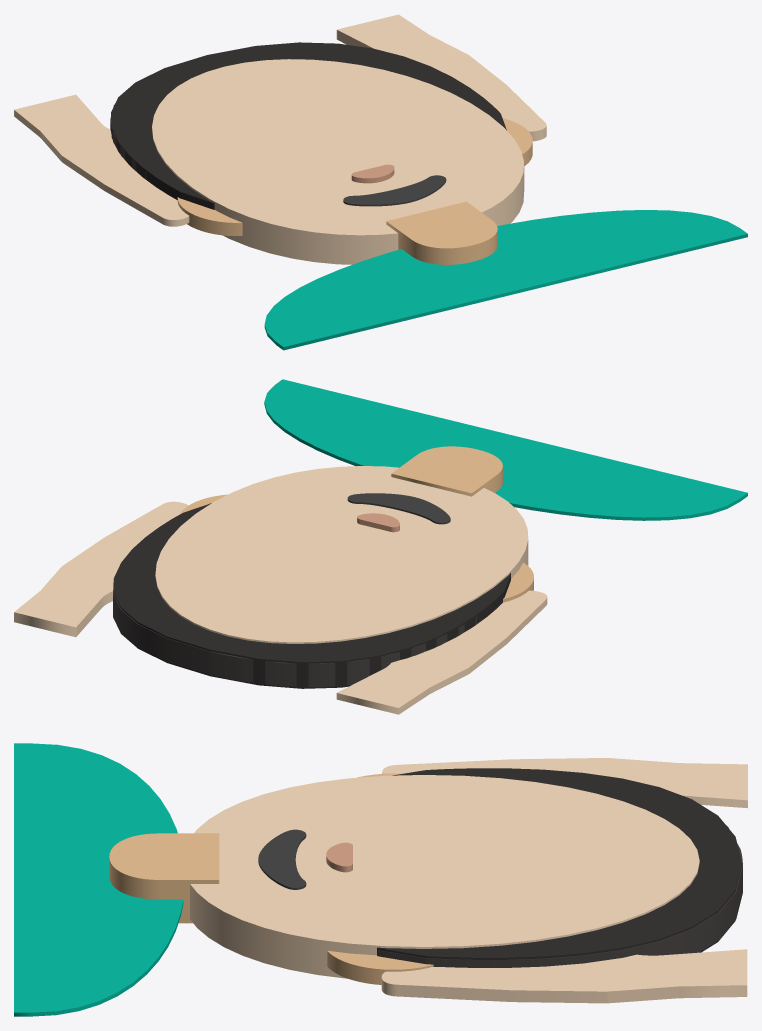
File: emoji_u1f486_1f3fb_200d_2642.glb
3 views of the same model, one above another, from view 1: azimuth 30°, elevation 25°; view 2: azimuth 150°, elevation 25°; view 3: azimuth 270°, elevation 25° (orthographic). The views are drawn at different scales.
Visible parts, largest first — view 1: emoji_u1f486_1f3fb_200d_2642; view 2: emoji_u1f486_1f3fb_200d_2642; view 3: emoji_u1f486_1f3fb_200d_2642.
Part boxes in pixels (box(x1,y1,x2,y2)): emoji_u1f486_1f3fb_200d_2642: box(14, 14, 747, 350); emoji_u1f486_1f3fb_200d_2642: box(14, 379, 747, 714); emoji_u1f486_1f3fb_200d_2642: box(14, 743, 747, 1016).
Size of the model in its own units: 0.0294 by 0.0024 by 0.0338.
